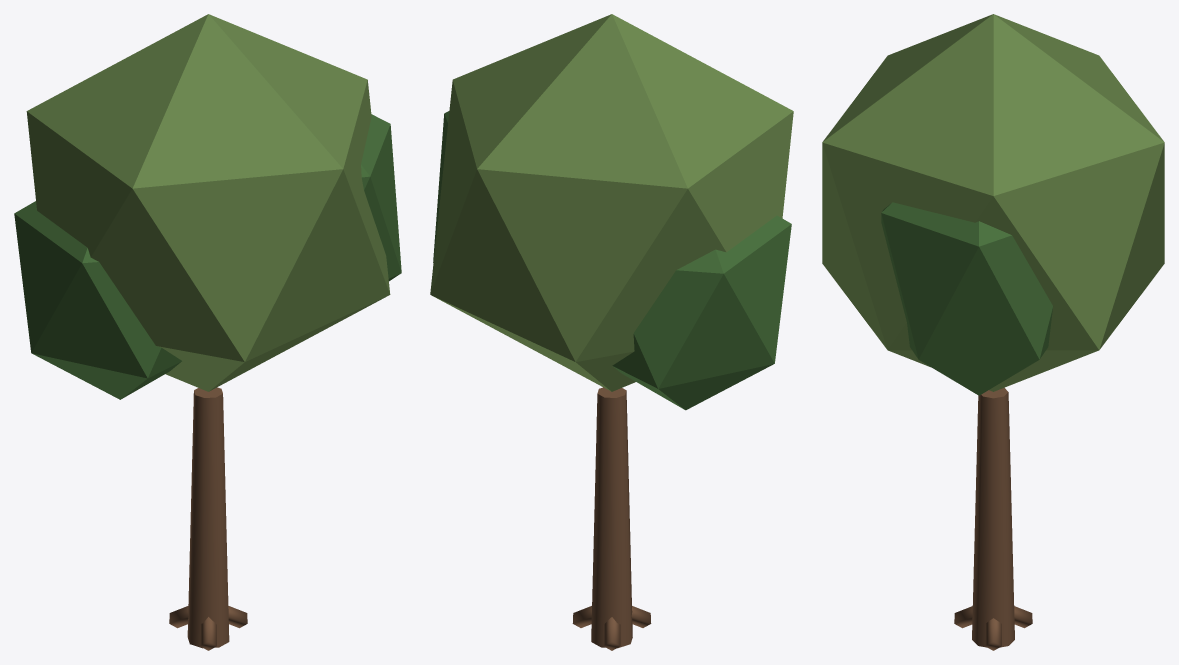
Rendered from meadow-tree-preview.glb.
3 renders of one model, left to right at view 1: azimuth 30°, elevation 25°; view 2: azimuth 150°, elevation 25°; view 3: azimuth 270°, elevation 25°, orthographic.
Visible parts, largest first — view 1: tree-round; view 2: tree-round; view 3: tree-round.
Boxes of the visible parts, x1,y1,x2,y2 form: tree-round: (14, 14, 401, 650); tree-round: (430, 14, 793, 650); tree-round: (822, 14, 1164, 650).
Size of the model in its own units: 2.77 by 4.8 by 2.38.
